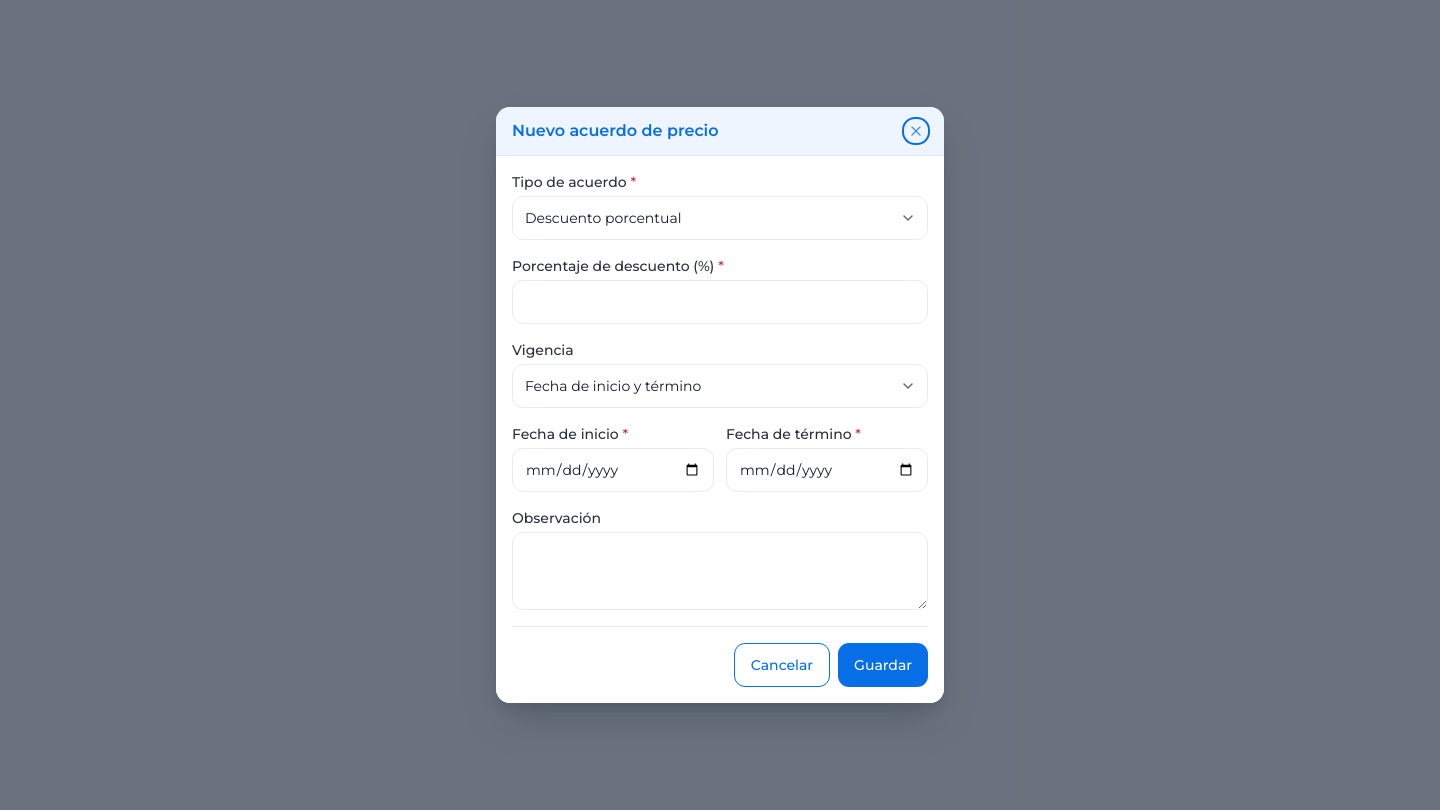
FormularioAcuerdo — campos condicionales por tipo › PRECIO_PACTADO muestra el selector de moneda y la aclaración de que reemplaza el precio base
This screenshot has width=1440, height=810.
Select "Precio pactado" in the dropdown labelled "Tipo de acuerdo *" at (720, 218), box [512,196,928,240]
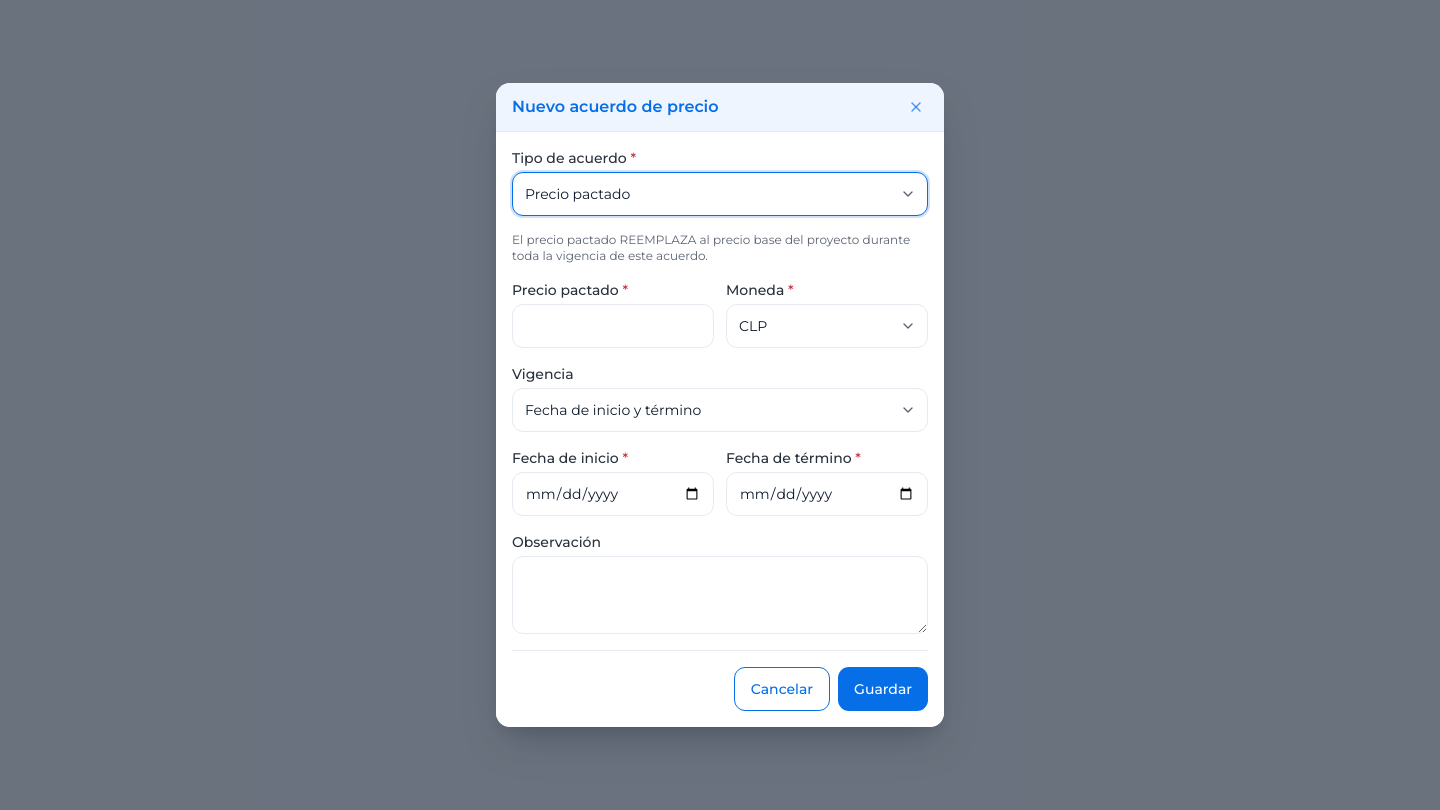
Check: the dropdown labelled "Moneda *" is shown, box [726,304,928,348]
Check: the text "REEMPLAZA al precio base" is shown, box [512,232,910,263]
